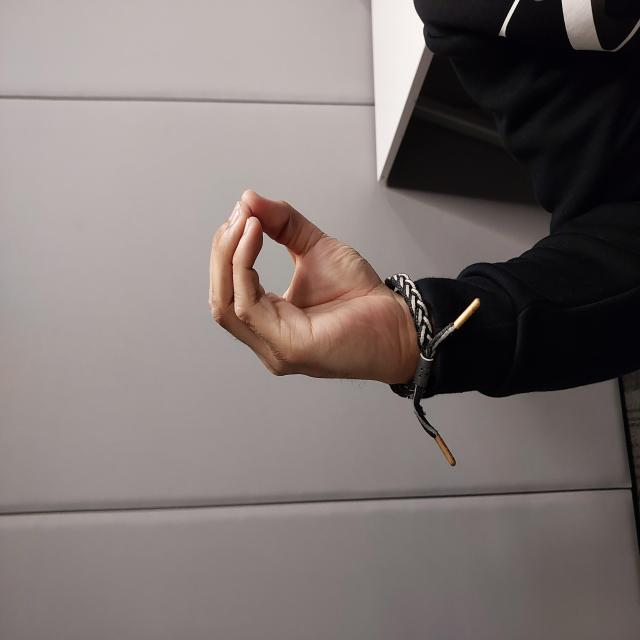O: (257, 208, 453, 400)
